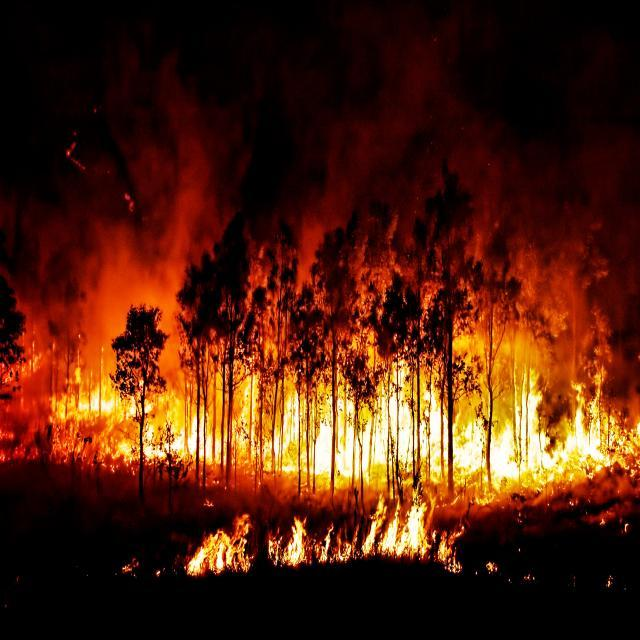Fire: (64, 372, 628, 493), (202, 513, 445, 574)
Smoke: (72, 129, 198, 326), (312, 82, 471, 218), (484, 195, 606, 372)
